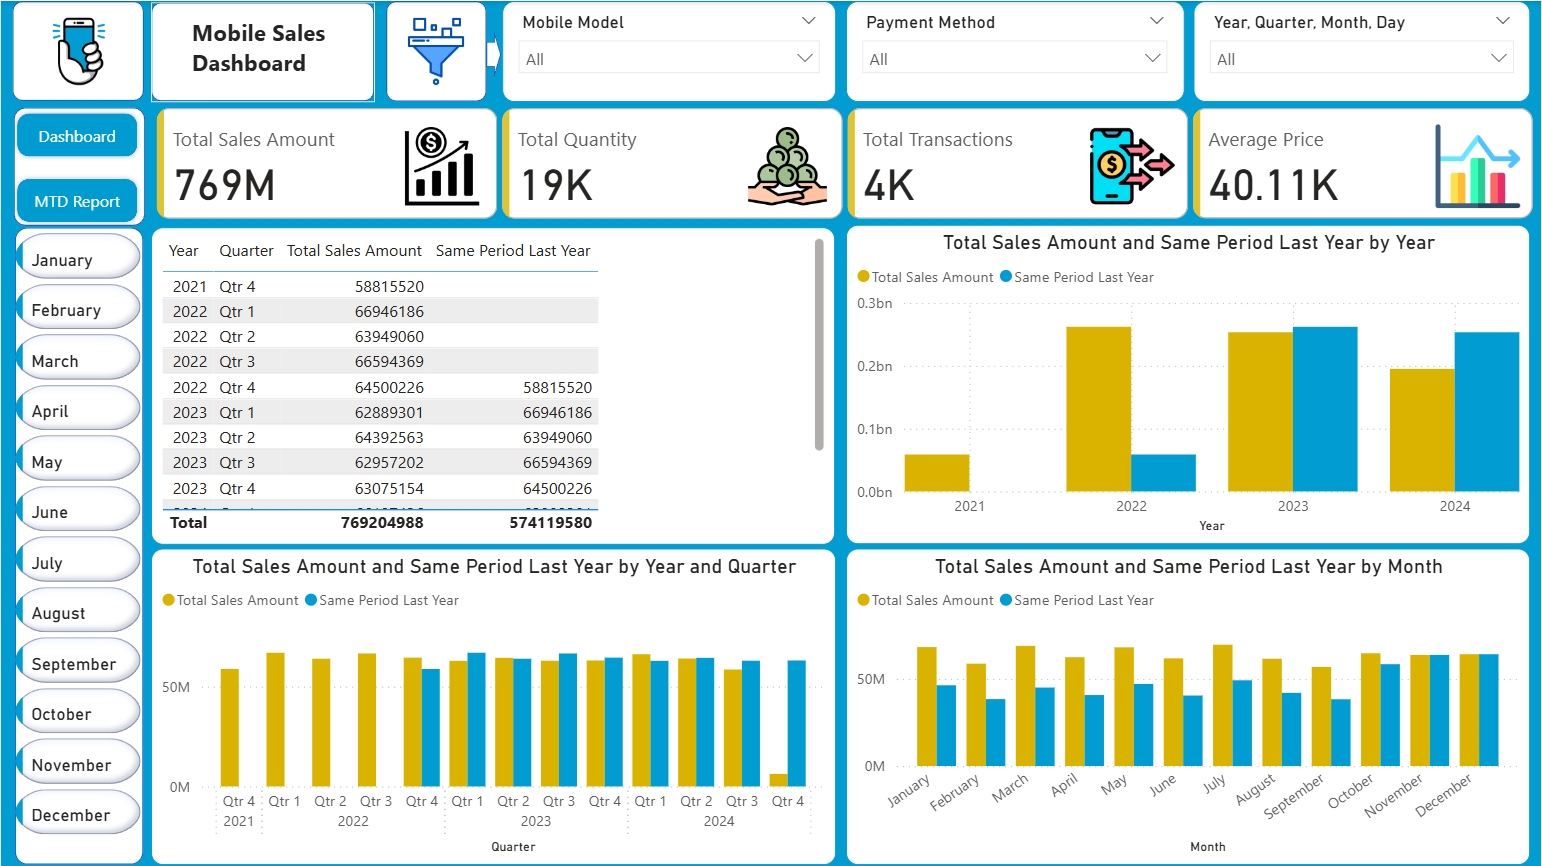

The page's visual inventory and layout, read from the dashboard file:
{"tool":"powerbi","page":{"name":"Same period Last Year","canvas":[1280,720],"ordinal":2},"visuals":[{"type":"shape","box":[9.7,0,109.9,83.5],"z":0},{"type":"image","box":[10.5,0,108.1,83.7],"z":1000},{"type":"cardVisual","fields":{"Data":["Mobile Sales Data.Total Sales Amount","Mobile Sales Data.Total Quantity","Mobile Sales Data.Total Transactions","Mobile Sales Data.Average Price"]},"box":[124.7,84.2,1155.7,102.9],"z":3000},{"type":"slicer","fields":{"Values":["Mobile Sales Data.Mobile Model"]},"box":[416.3,0,277.9,83.7],"z":4000},{"type":"slicer","fields":{"Values":["Mobile Sales Data.Payment Method"]},"box":[702.3,0,281.4,83.7],"z":5000},{"type":"slicer","fields":{"Values":["Date.Date.Variation.Date Hierarchy.Year","Date.Date.Variation.Date Hierarchy.Quarter","Date.Date.Variation.Date Hierarchy.Month","Date.Date.Variation.Date Hierarchy.Day"]},"box":[991.9,0,280.2,83.7],"z":6000},{"type":"shape","box":[319.8,0,83.7,83.7],"z":7000},{"type":"image","box":[319.8,8.1,83.7,67.4],"z":8000},{"type":"shape","box":[403.5,23.3,12.8,43],"z":9000},{"type":"shape","box":[124.4,1.2,186,82.6],"z":10000},{"type":"textbox","box":[153.5,8.1,127.9,66.3],"z":11000},{"type":"tableEx","fields":{"Values":["Date.Date.Variation.Date Hierarchy.Year","Date.Date.Variation.Date Hierarchy.Quarter","Mobile Sales Data.Total Sales Amount","Mobile Sales Data.Same Period Last Year"]},"box":[125.2,187.8,569,264.3],"z":12000},{"type":"shape","box":[11.4,188.1,107,530],"z":13000},{"type":"advancedSlicerVisual","fields":{"Values":["Date.Date.Variation.Date Hierarchy.Month"]},"box":[7,187.8,114.1,513.4],"z":14000},{"type":"clusteredColumnChart","fields":{"Category":["Date.Date.Variation.Date Hierarchy.Year","Date.Date.Variation.Date Hierarchy.Quarter","Date.Date.Variation.Date Hierarchy.Month","Date.Date.Variation.Date Hierarchy.Day"],"Y":["Mobile Sales Data.Total Sales Amount","Mobile Sales Data.Same Period Last Year"]},"box":[702.6,186.4,569,265.7],"z":14001},{"type":"clusteredColumnChart","fields":{"Category":["Date.Date.Variation.Date Hierarchy.Year","Date.Date.Variation.Date Hierarchy.Quarter","Date.Date.Variation.Date Hierarchy.Month","Date.Date.Variation.Date Hierarchy.Day"],"Y":["Mobile Sales Data.Total Sales Amount","Mobile Sales Data.Same Period Last Year"]},"box":[124.7,455.2,569.5,262.9],"z":14002},{"type":"clusteredColumnChart","fields":{"Category":["Date.Date.Variation.Date Hierarchy.Year","Date.Date.Variation.Date Hierarchy.Quarter","Date.Date.Variation.Date Hierarchy.Month","Date.Date.Variation.Date Hierarchy.Day"],"Y":["Mobile Sales Data.Total Sales Amount","Mobile Sales Data.Same Period Last Year"]},"box":[702.6,455,569,263],"z":14003},{"type":"shape","box":[10.9,87.9,109.9,99],"z":14004},{"type":"pageNavigator","box":[9.7,89,108.5,98.8],"z":14005}]}

Visuals, with their boxes in screenshot pixels (x1, y1, x2, y2), scaled from the page's 1280x720 canvas onto the 1542x866 screenshot:
shape: x1=12, y1=0, x2=144, y2=100
image: x1=13, y1=0, x2=143, y2=101
cardVisual - Mobile Sales Data.Total Sales Amount x Mobile Sales Data.Total Quantity: x1=150, y1=101, x2=1541, y2=225
slicer - Mobile Sales Data.Mobile Model: x1=502, y1=0, x2=836, y2=101
slicer - Mobile Sales Data.Payment Method: x1=846, y1=0, x2=1185, y2=101
slicer - Date.Date.Variation.Date Hierarchy.Year x Date.Date.Variation.Date Hierarchy.Quarter: x1=1195, y1=0, x2=1532, y2=101
shape: x1=385, y1=0, x2=486, y2=101
image: x1=385, y1=10, x2=486, y2=91
shape: x1=486, y1=28, x2=502, y2=80
shape: x1=150, y1=1, x2=374, y2=101
textbox: x1=185, y1=10, x2=339, y2=89
tableEx - Date.Date.Variation.Date Hierarchy.Year x Date.Date.Variation.Date Hierarchy.Quarter: x1=151, y1=226, x2=836, y2=544
shape: x1=14, y1=226, x2=143, y2=864
advancedSlicerVisual - Date.Date.Variation.Date Hierarchy.Month: x1=8, y1=226, x2=146, y2=843
clusteredColumnChart - Date.Date.Variation.Date Hierarchy.Year x Date.Date.Variation.Date Hierarchy.Quarter: x1=846, y1=224, x2=1532, y2=544
clusteredColumnChart - Date.Date.Variation.Date Hierarchy.Year x Date.Date.Variation.Date Hierarchy.Quarter: x1=150, y1=548, x2=836, y2=864
clusteredColumnChart - Date.Date.Variation.Date Hierarchy.Year x Date.Date.Variation.Date Hierarchy.Quarter: x1=846, y1=547, x2=1532, y2=864
shape: x1=13, y1=106, x2=146, y2=225
pageNavigator: x1=12, y1=107, x2=142, y2=226
